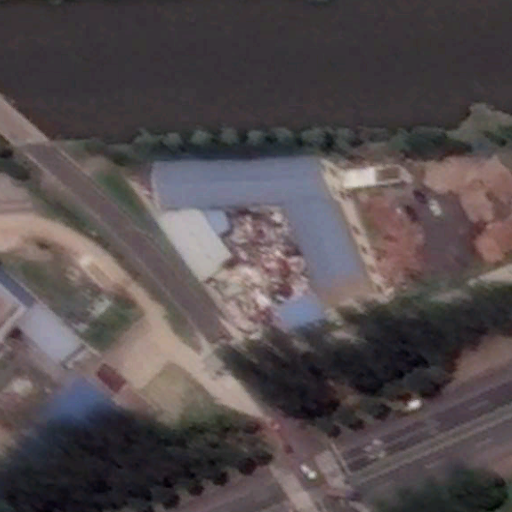msw: (215, 208, 315, 328)
